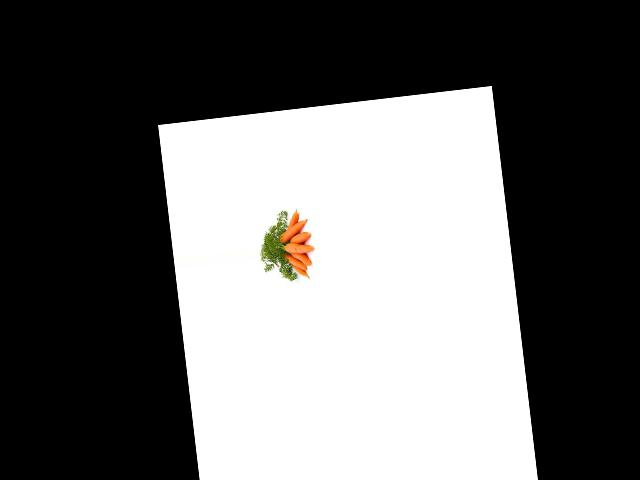carrot: (283, 210, 303, 234)
